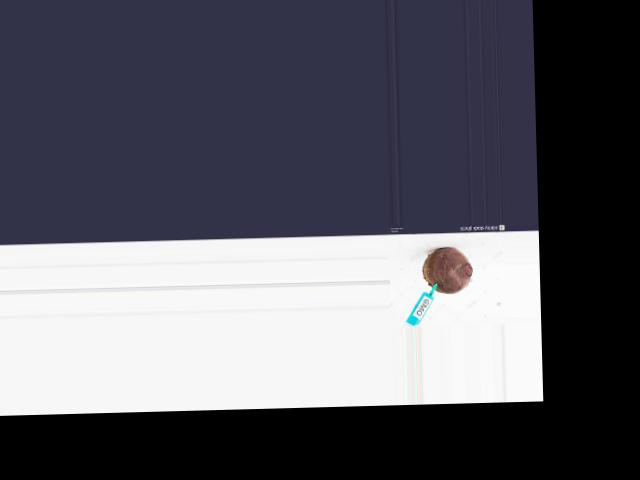beet: (422, 246, 472, 294)
